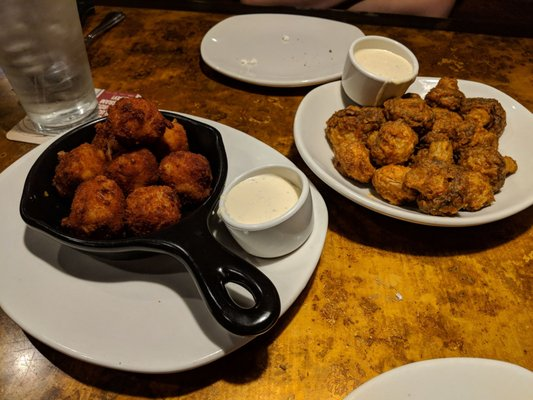pizza: (0, 0, 100, 134), (214, 164, 314, 259), (341, 36, 420, 109)
sushi: (341, 357, 533, 400), (214, 164, 311, 233)
